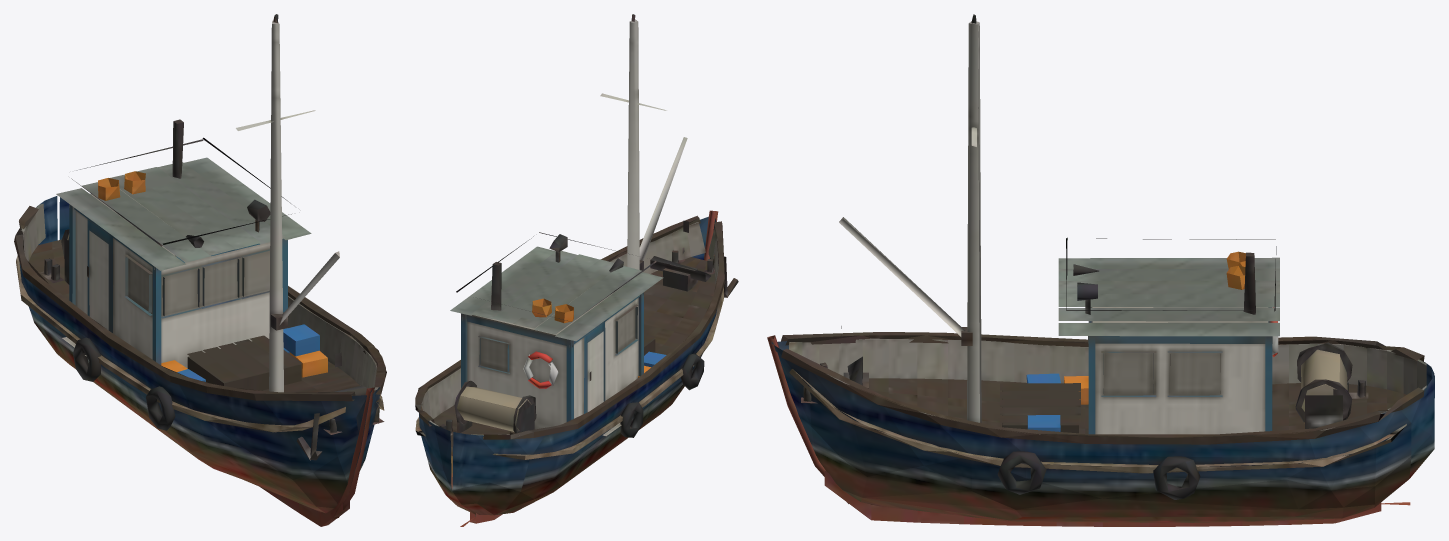
File: fishing-boat-lod1.glb
3 views of the same model, side by side, from view 1: azimuth 30°, elevation 25°; view 2: azimuth 150°, elevation 25°; view 3: azimuth 270°, elevation 25° (orthographic). The views are drawn at different scales.
Visible parts, largest first — view 1: fishing-boat-0.001; view 2: fishing-boat-0.001; view 3: fishing-boat-0.001.
Boxes of the visible parts, <box> form: fishing-boat-0.001: <box>14,14,386,526</box>; fishing-boat-0.001: <box>415,14,738,526</box>; fishing-boat-0.001: <box>767,14,1434,526</box>.
Size of the model in its own units: 3.25 by 7.65 by 9.07.
Materials: 1 (1 with a texture image).
